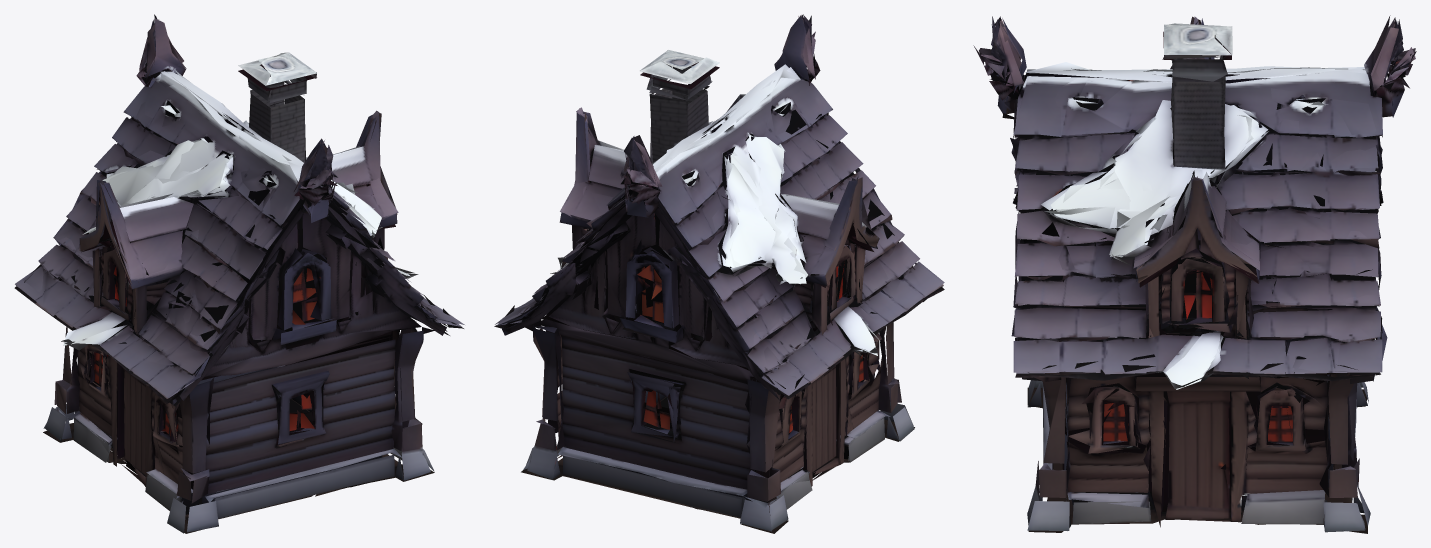
Rendered from house_frozen.glb.
The picture shows the model from 3 angles, left to right: view 1: azimuth 30°, elevation 25°; view 2: azimuth 150°, elevation 25°; view 3: azimuth 270°, elevation 25°; orthographic projection. The views are drawn at different scales.
Parts seen in each view (by area): view 1: Mesh_0; view 2: Mesh_0; view 3: Mesh_0.
Boxes of the visible parts, <box> form: Mesh_0: <box>14,14,464,533</box>; Mesh_0: <box>494,14,944,533</box>; Mesh_0: <box>973,15,1416,533</box>.
Size of the model in its own units: 9.3 by 10.07 by 8.86.
Materials: 1 (1 with a texture image).
